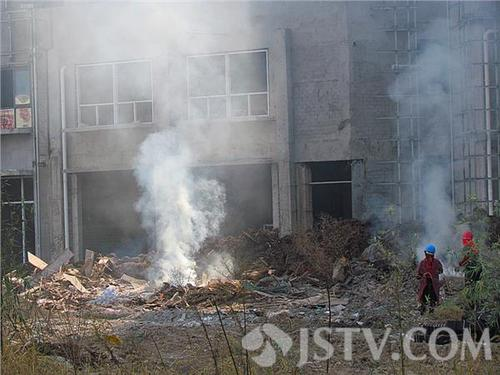smoke: (132, 132, 242, 284)
